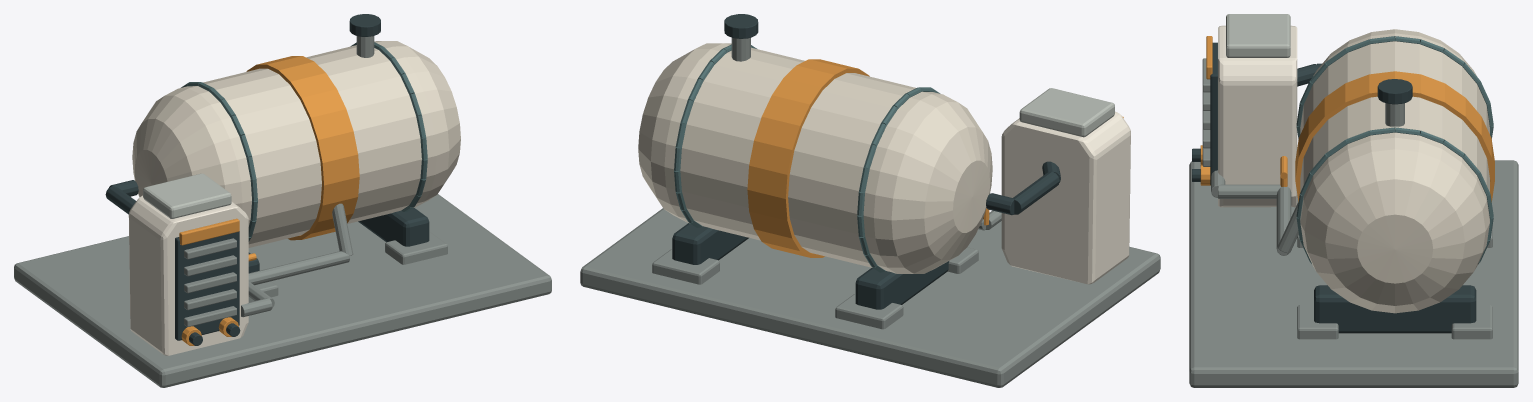
Rendered from service_unit_01.glb.
3 renders of one model, left to right at view 1: azimuth 30°, elevation 25°; view 2: azimuth 150°, elevation 25°; view 3: azimuth 270°, elevation 25°, orthographic. The views are drawn at different scales.
Parts seen in each view (by area): view 1: service_unit_01; view 2: service_unit_01; view 3: service_unit_01.
Boxes of the visible parts, x1,y1,x2,y2 form: service_unit_01: (14,14,551,387); service_unit_01: (580,14,1160,387); service_unit_01: (1189,14,1518,387).
Bounding box in the file's own units: 4.85 × 2.71 × 3.2.
